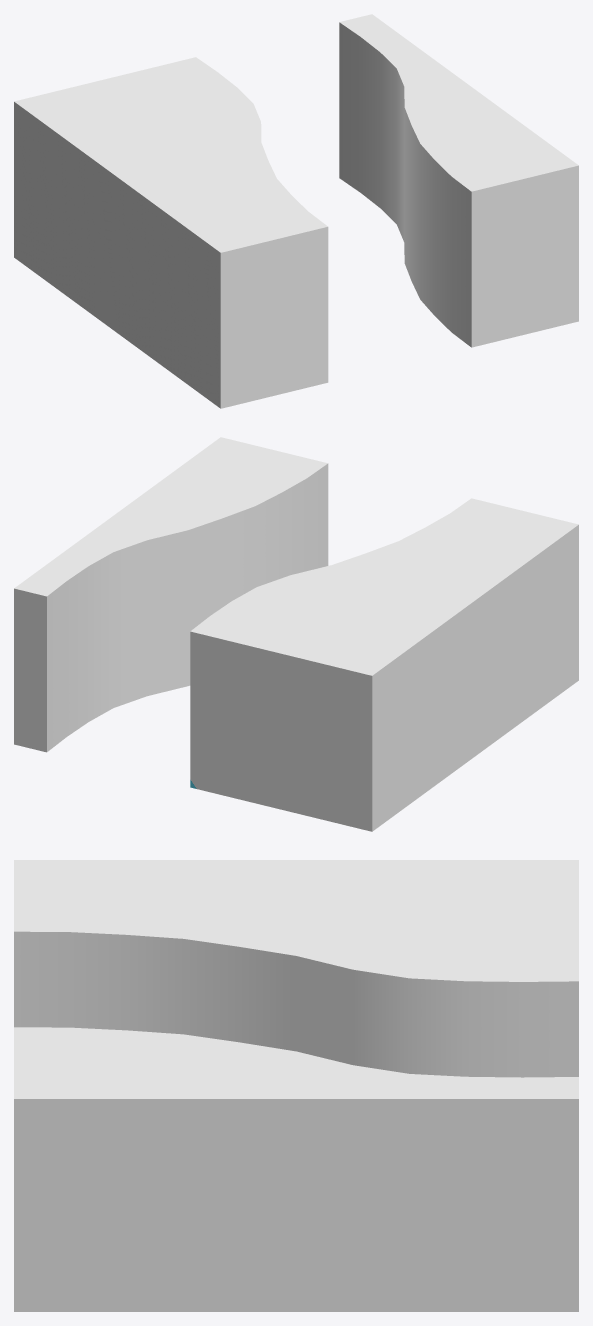
The model's file is invisiblewall2.fbx.
3 views of the same model, one above another, from view 1: azimuth 30°, elevation 25°; view 2: azimuth 150°, elevation 25°; view 3: azimuth 270°, elevation 25° (orthographic). The views are drawn at different scales.
Visible parts, largest first — view 1: pCube2; view 2: pCube2; view 3: pCube2.
Part boxes in pixels (bbox=[...]): pCube2: bbox=[14, 14, 578, 408]; pCube2: bbox=[14, 437, 578, 831]; pCube2: bbox=[14, 860, 578, 1311].
Bounding box in the file's own units: 24.03 × 10 × 24.03.
